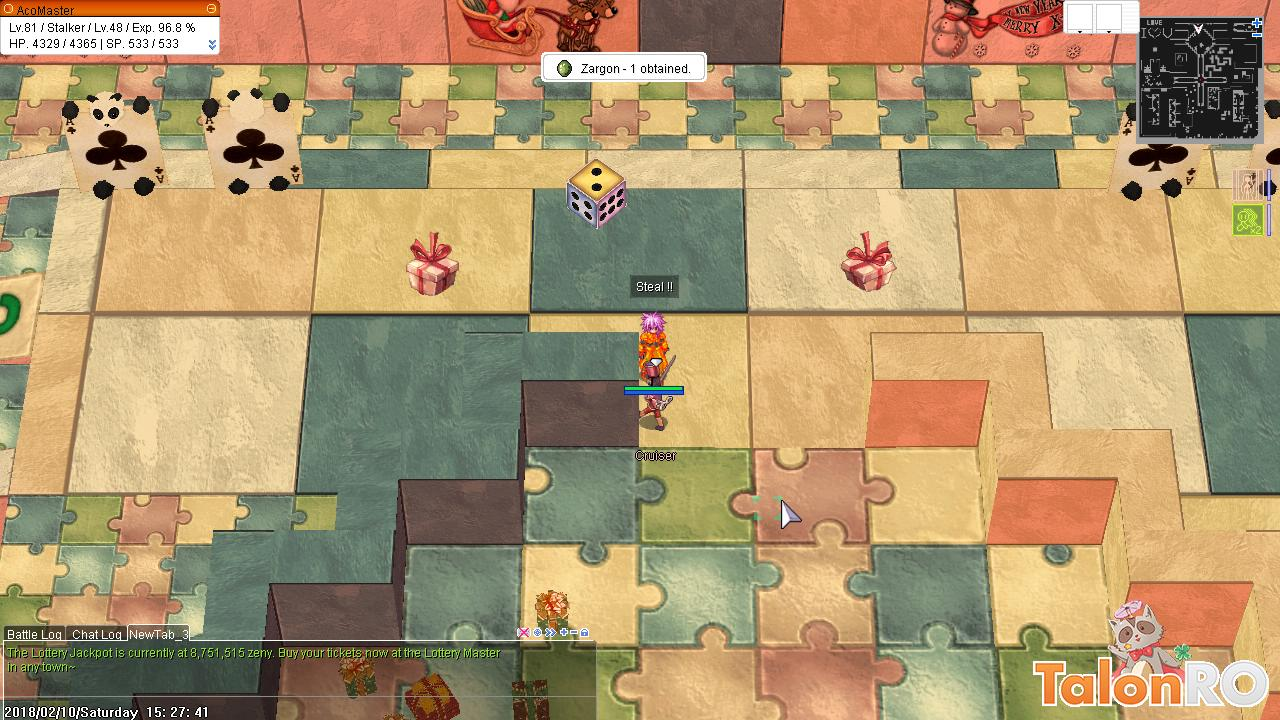mob: (635, 356, 679, 439)
myst_case: (401, 226, 466, 303), (839, 227, 900, 298)
